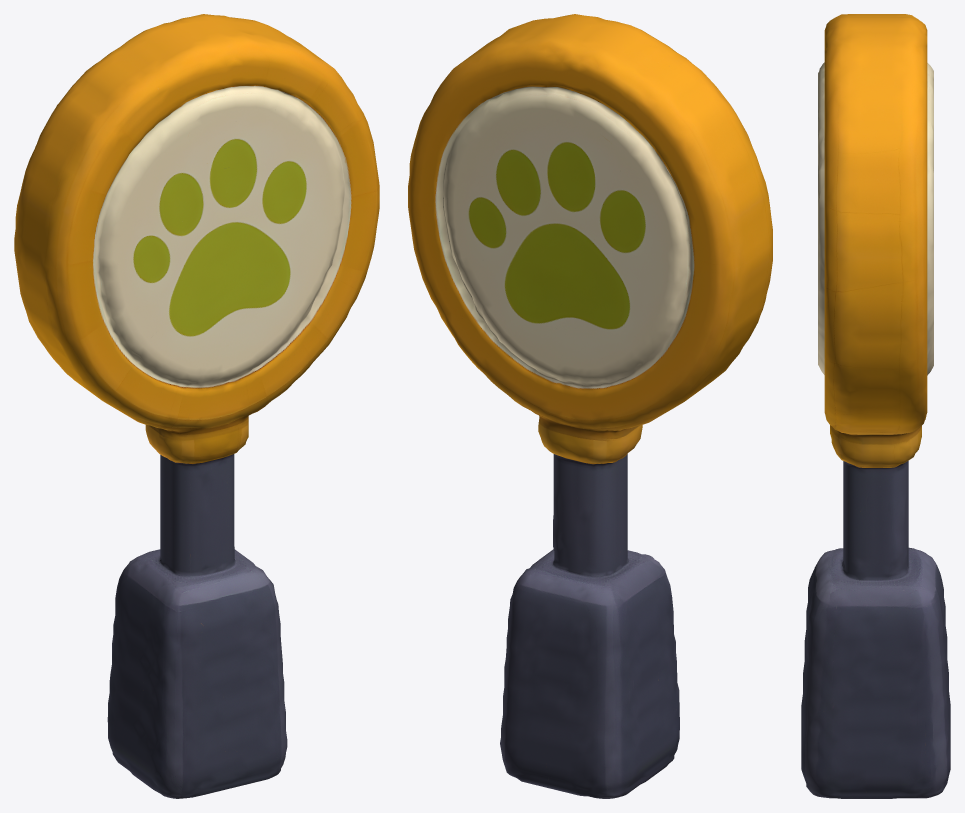
File: traffic_sign.glb
3 views of the same model, side by side, from view 1: azimuth 30°, elevation 25°; view 2: azimuth 150°, elevation 25°; view 3: azimuth 270°, elevation 25° (orthographic).
Visible parts, largest first — view 1: Mesh_0.002; view 2: Mesh_0.002; view 3: Mesh_0.002.
Boxes of the visible parts, bbox=[...] form: Mesh_0.002: bbox=[14, 14, 379, 798]; Mesh_0.002: bbox=[408, 14, 772, 798]; Mesh_0.002: bbox=[801, 14, 950, 798].
Bounding box in the file's own units: 0.0569 × 0.12 × 0.0219.
Materials: 1 (1 with a texture image).
